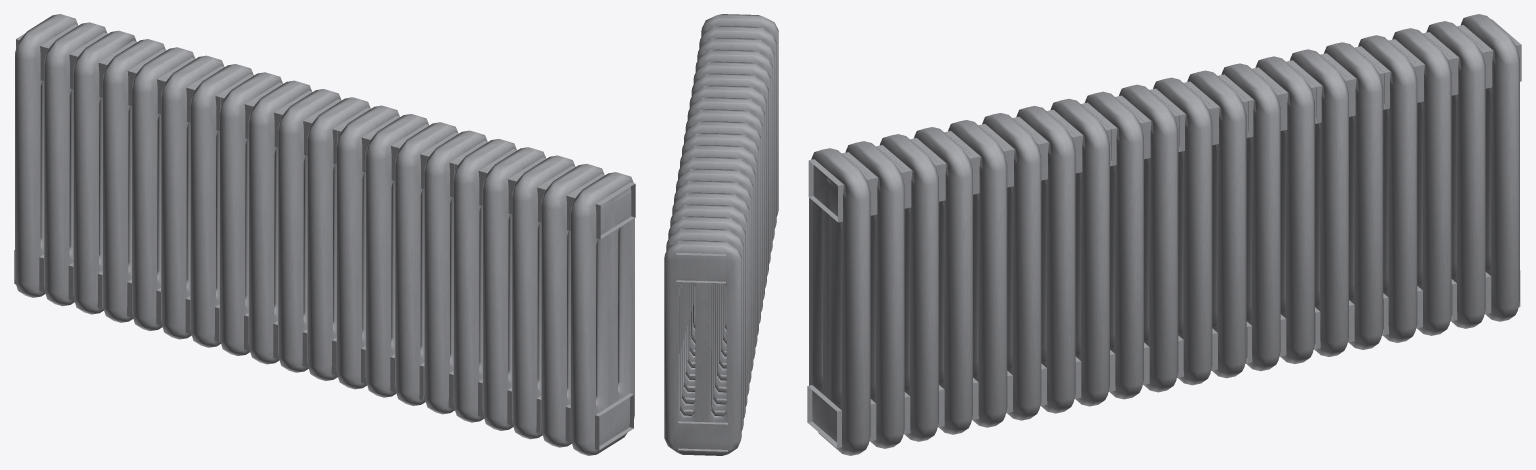
Rendered from HeaterPiece.fbx.
3 renders of one model, left to right at view 1: azimuth 30°, elevation 25°; view 2: azimuth 150°, elevation 25°; view 3: azimuth 270°, elevation 25°, orthographic. The views are drawn at different scales.
Visible parts, largest first — view 1: Cube.013; view 2: Cube.013; view 3: Cube.013.
Part boxes in pixels (box(x1,y1,x2,y2)): Cube.013: box(14, 14, 635, 455); Cube.013: box(664, 14, 778, 455); Cube.013: box(807, 14, 1521, 455).
Size of the model in its own units: 71.43 by 53.22 by 123.
Materials: 1 (1 with a texture image).
